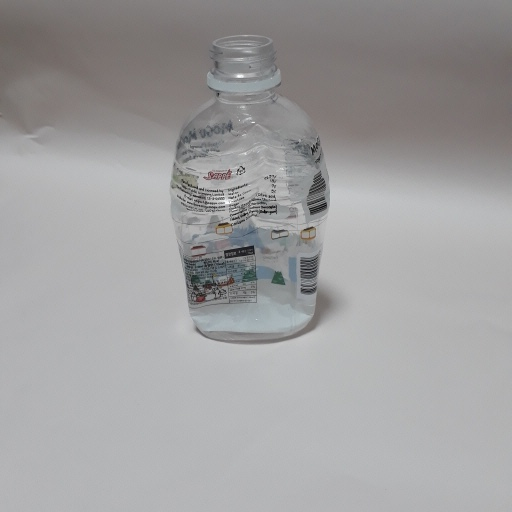Plastic_0: (170, 31, 333, 342)
